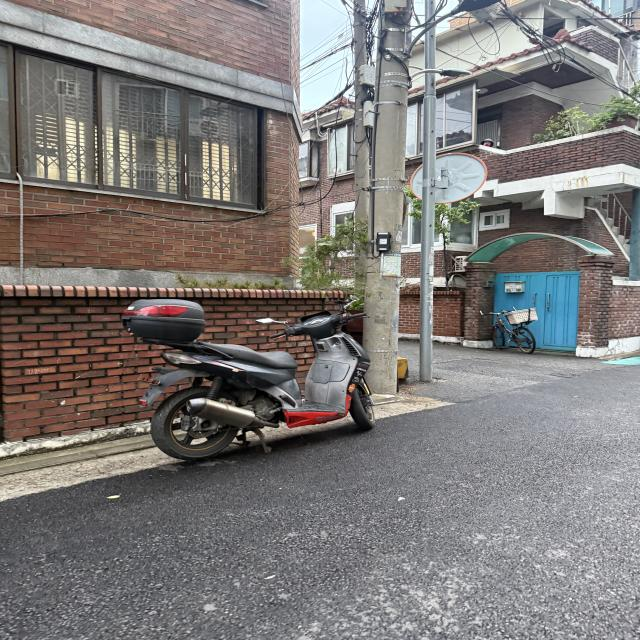bicycle: (475, 304, 544, 357)
motorcycle: (97, 272, 418, 472)
